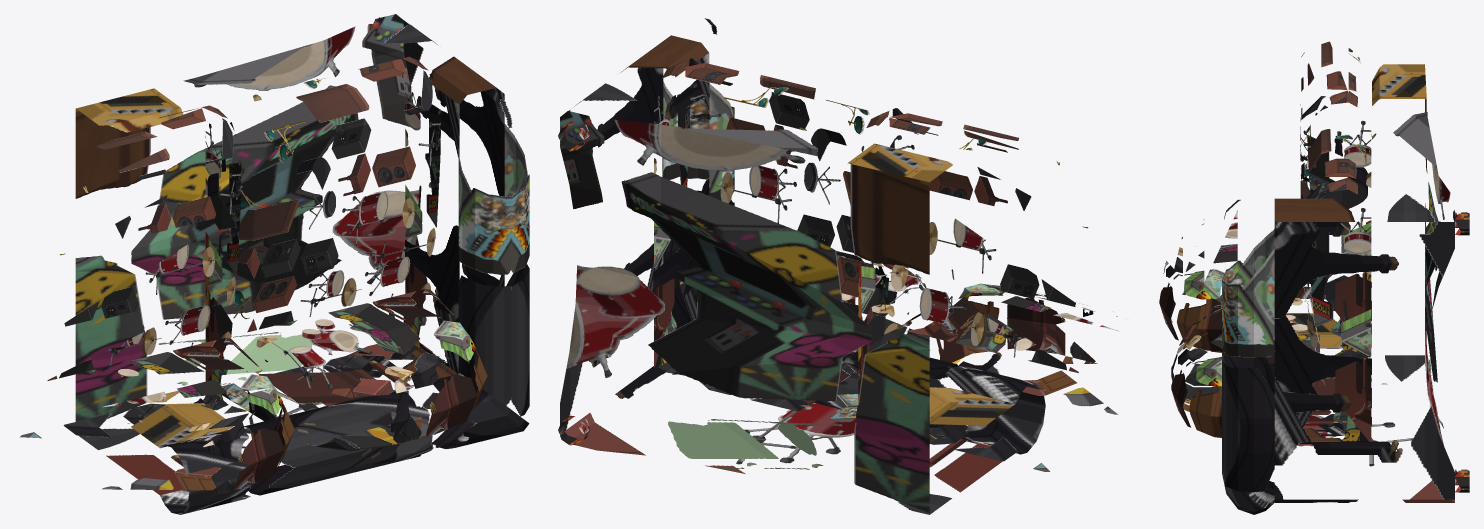
The picture shows the model from 3 angles, left to right: view 1: azimuth 30°, elevation 25°; view 2: azimuth 150°, elevation 25°; view 3: azimuth 270°, elevation 25°; orthographic projection. The views are drawn at different scales.
Size of the model in its own units: 1.23 by 0.92 by 0.8359.
